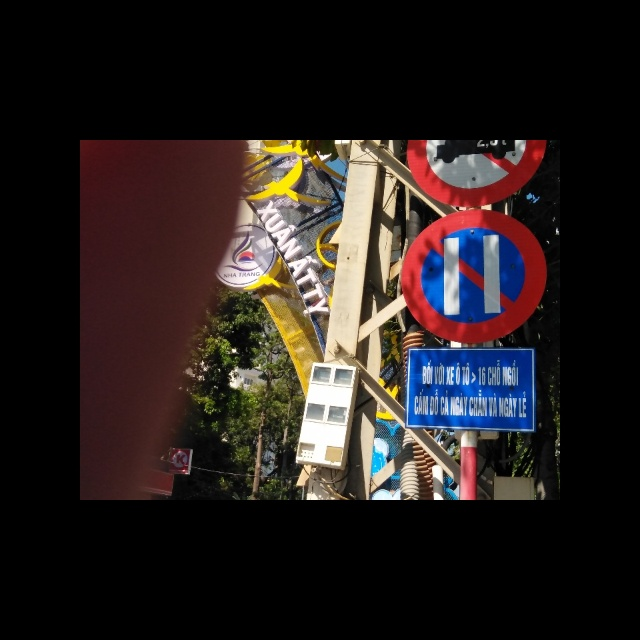Cấm xe tải: (404, 140, 551, 206)
Cấm đỗ xe ngày chẵn: (398, 206, 544, 342)
